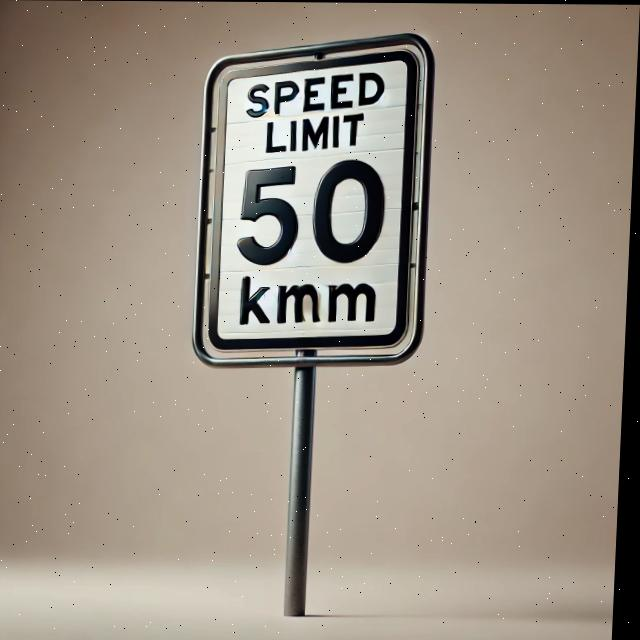Speed limit 50: (193, 30, 441, 371)
